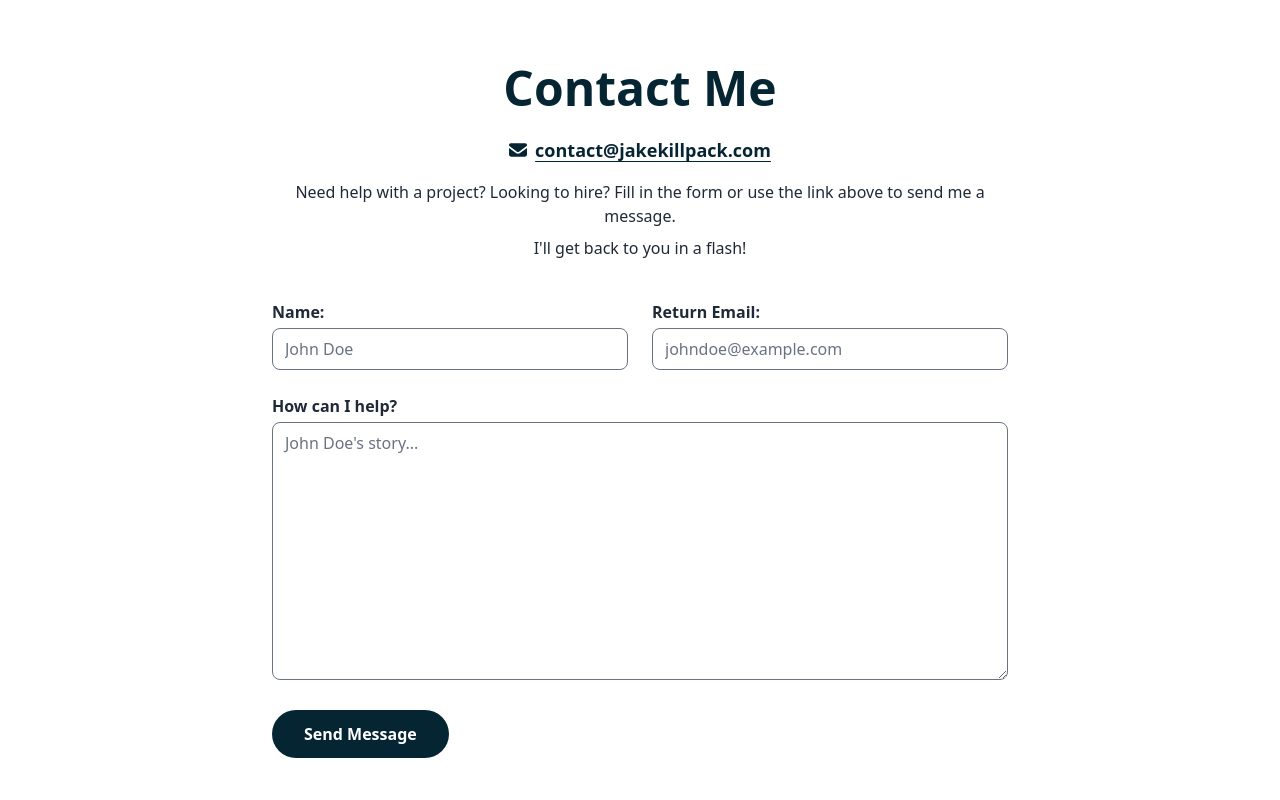
Test: ContactMe › sends the form, then clears it and flashes a thank-you
The width and height of the screenshot is (1280, 800).
Step 1. Type "Ada Lovelace" into the field labelled "Name:" → coordinates (450, 349), box [272,328,628,370]
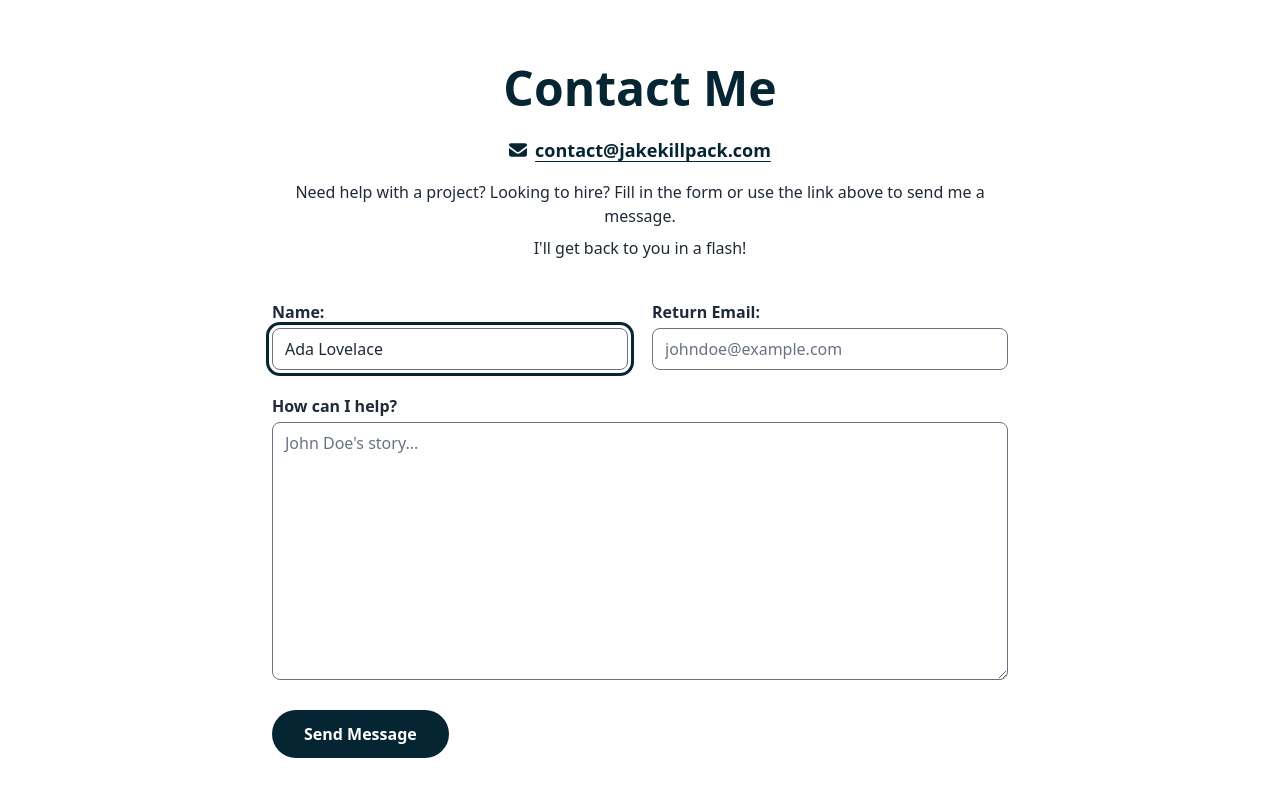
Step 2. Type "ada@example.com" into the field labelled "Return Email:" → coordinates (830, 349), box [652,328,1008,370]
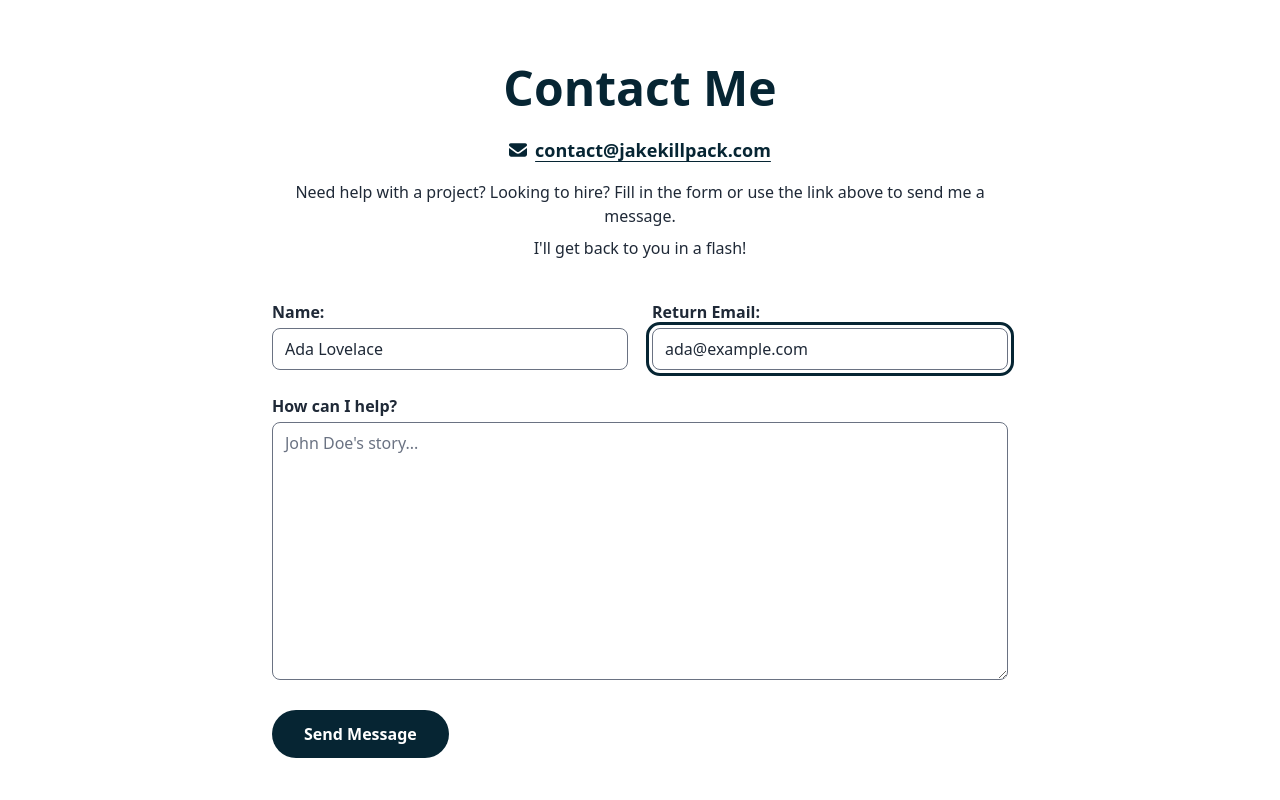
Step 3. Type "Hello there" into the text box labelled "How can I help?" → coordinates (640, 551), box [272,422,1008,680]
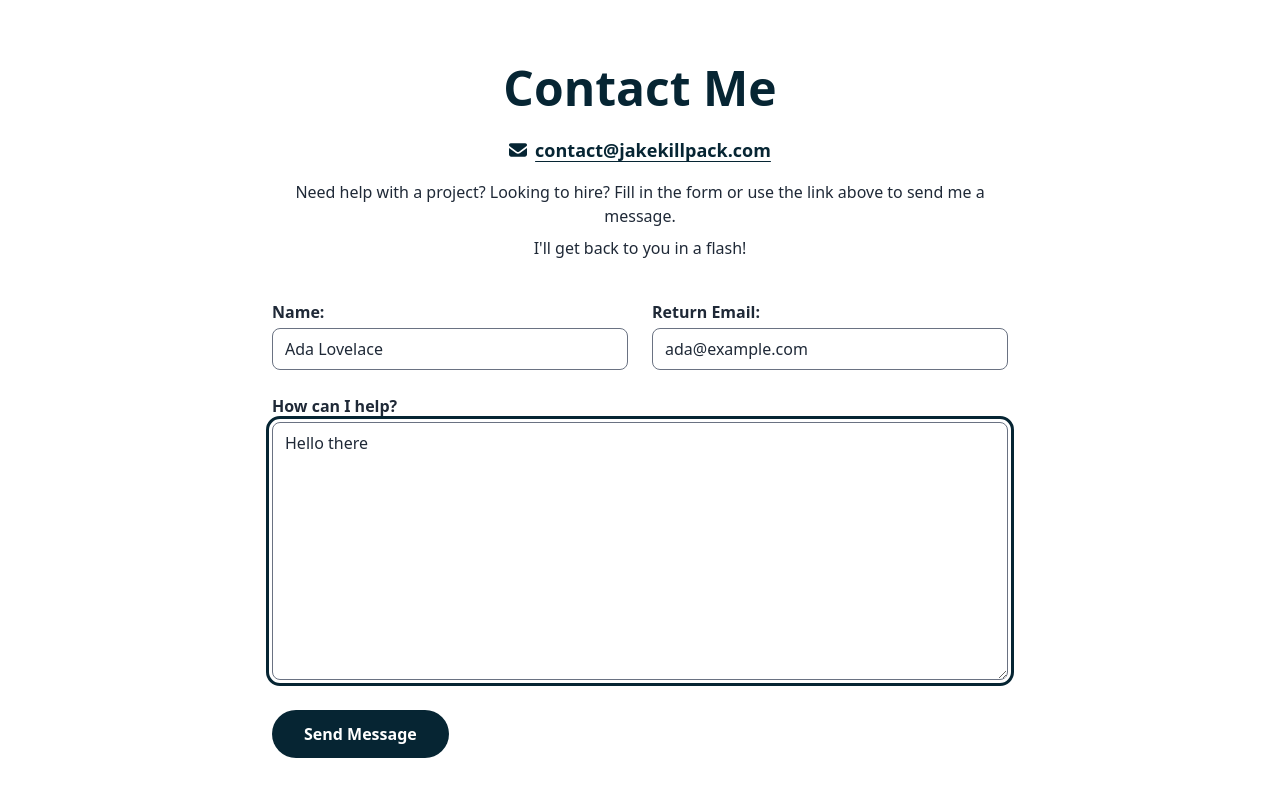
Step 4. Click the button "Send Message" → coordinates (360, 734), box [272,710,449,758]
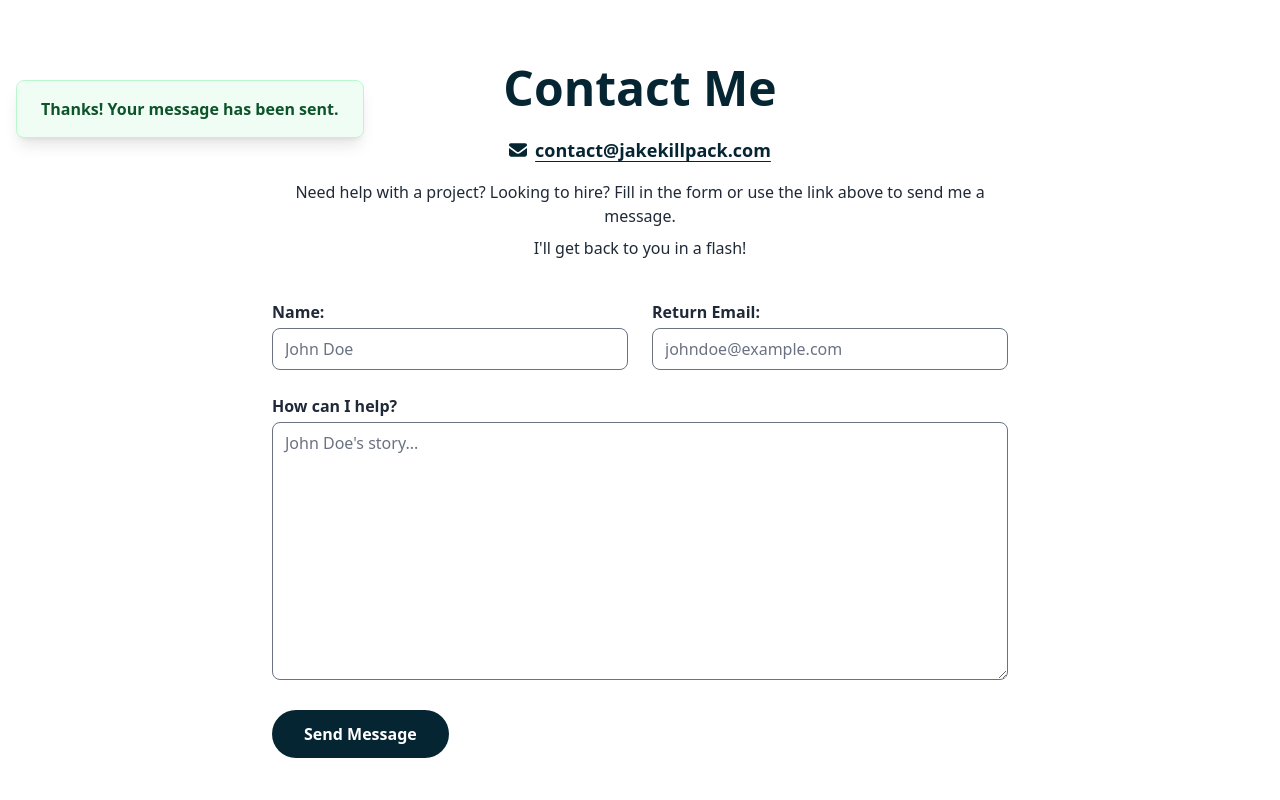
Expected: the message reads "Thanks! Your message has been sent.", [41,98,338,120]
Expected: the field labelled "Name:" is empty, [272,328,628,370]
Expected: the field labelled "Return Email:" is empty, [652,328,1008,370]
